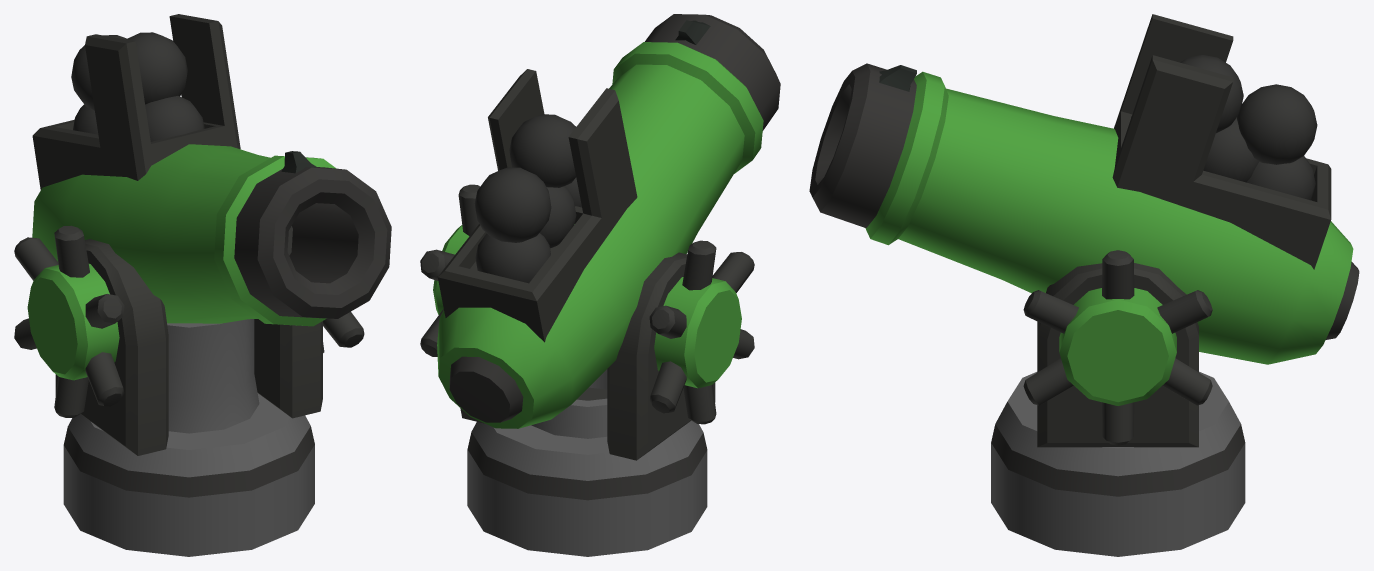
File: Weapon_t_1_LP.fbx
3 views of the same model, side by side, from view 1: azimuth 30°, elevation 25°; view 2: azimuth 150°, elevation 25°; view 3: azimuth 270°, elevation 25° (orthographic). The views are drawn at different scales.
Visible parts, largest first — view 1: \Weapon_t_1.001, \Weapon_t_1_Base.001; view 2: \Weapon_t_1.001, \Weapon_t_1_Base.001; view 3: \Weapon_t_1.001, \Weapon_t_1_Base.001.
Part boxes in pixels (left/top/right/bottom): \Weapon_t_1.001: left=14, top=14, right=391, bottom=417; \Weapon_t_1_Base.001: left=55, top=239, right=322, bottom=556; \Weapon_t_1.001: left=420, top=14, right=780, bottom=428; \Weapon_t_1_Base.001: left=460, top=252, right=715, bottom=556; \Weapon_t_1.001: left=809, top=14, right=1359, bottom=445; \Weapon_t_1_Base.001: left=991, top=263, right=1245, bottom=556.
Bounding box in the file's own units: 67.55 × 108 × 116.
